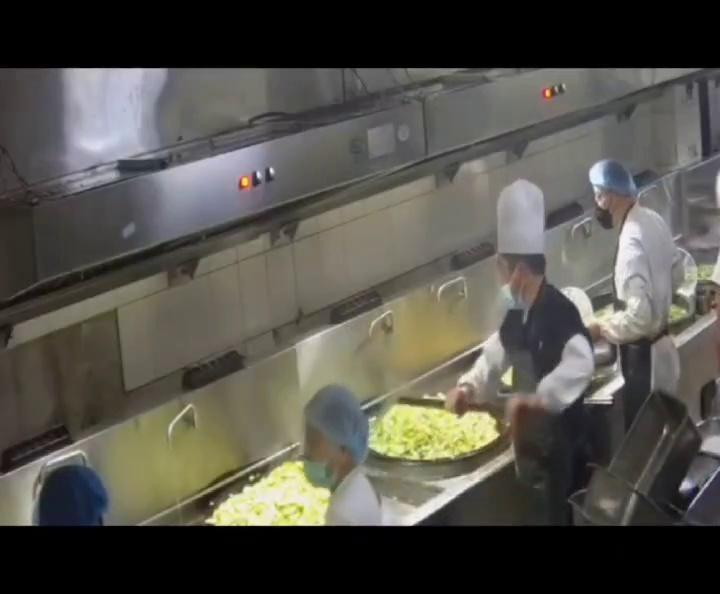gloves: (297, 379, 378, 451), (589, 160, 648, 197)
hairnet: (292, 440, 348, 489), (591, 198, 635, 234)
mask: (32, 464, 115, 526)
